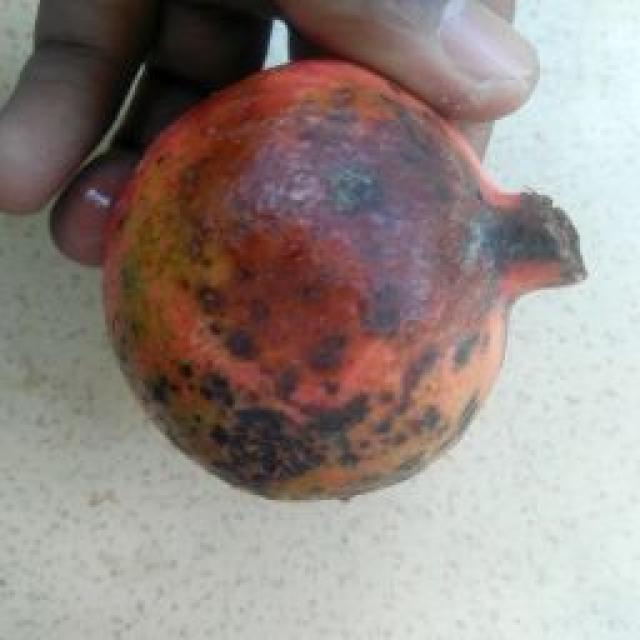Rotten: (100, 51, 586, 504)
